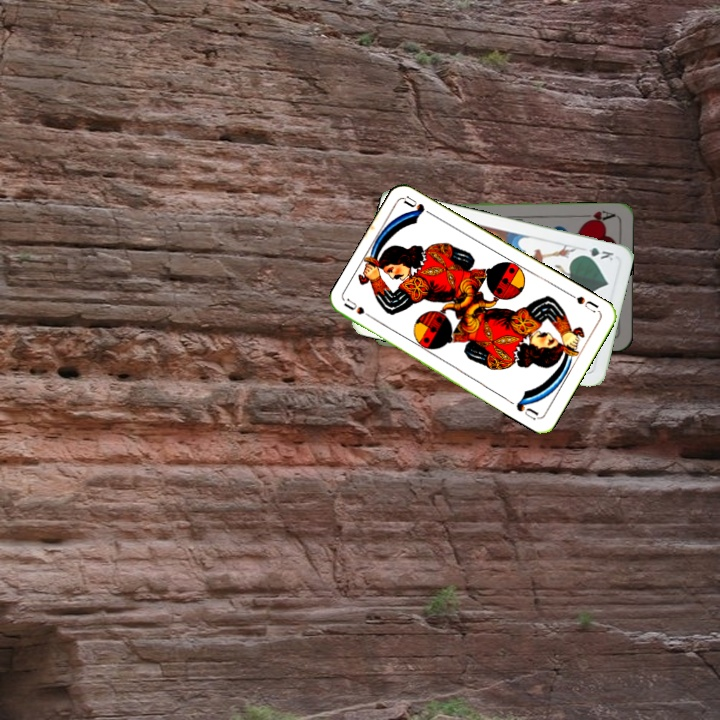GK: (576, 243, 616, 264)
HA: (577, 206, 617, 225)
SU: (341, 295, 379, 324), (565, 289, 602, 315)
